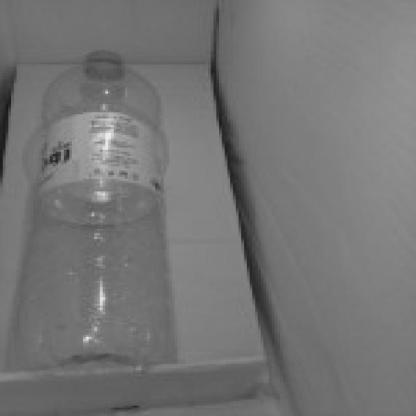plastic_bottles: (16, 42, 190, 387)
